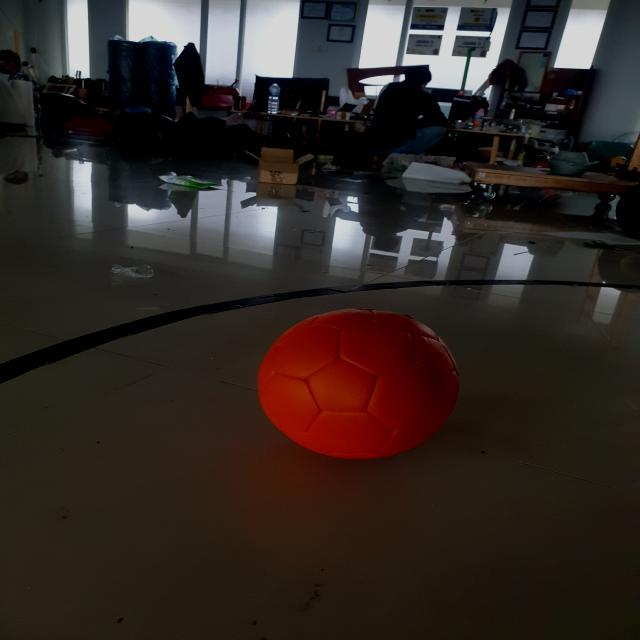bola: (247, 300, 466, 471)
